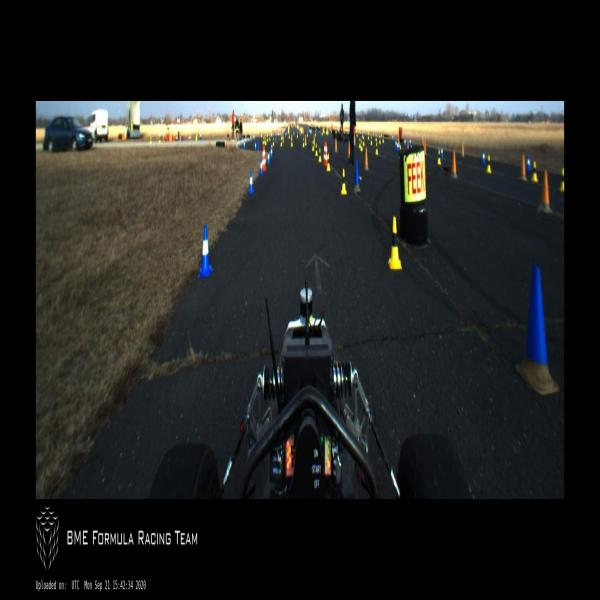blue_cone: (198, 225, 213, 280), (248, 171, 254, 194), (526, 155, 530, 172), (441, 144, 444, 159), (482, 150, 485, 164), (260, 157, 262, 176), (270, 147, 273, 159), (268, 151, 270, 165)
large_orange_cone: (262, 146, 266, 171), (323, 141, 326, 165), (325, 143, 327, 166)
yellow_cone: (387, 216, 402, 270), (341, 168, 347, 194), (532, 160, 538, 182), (559, 167, 564, 191), (486, 154, 491, 173), (437, 150, 441, 164), (327, 154, 330, 171), (318, 149, 321, 162), (315, 144, 318, 156), (360, 140, 363, 151), (302, 138, 305, 148), (358, 137, 360, 149), (290, 139, 293, 147), (312, 140, 314, 151), (376, 143, 378, 154), (362, 137, 364, 146), (370, 137, 372, 146), (382, 134, 384, 143), (375, 133, 377, 142), (272, 137, 274, 146), (379, 136, 381, 144), (280, 138, 282, 146), (264, 138, 266, 146)
